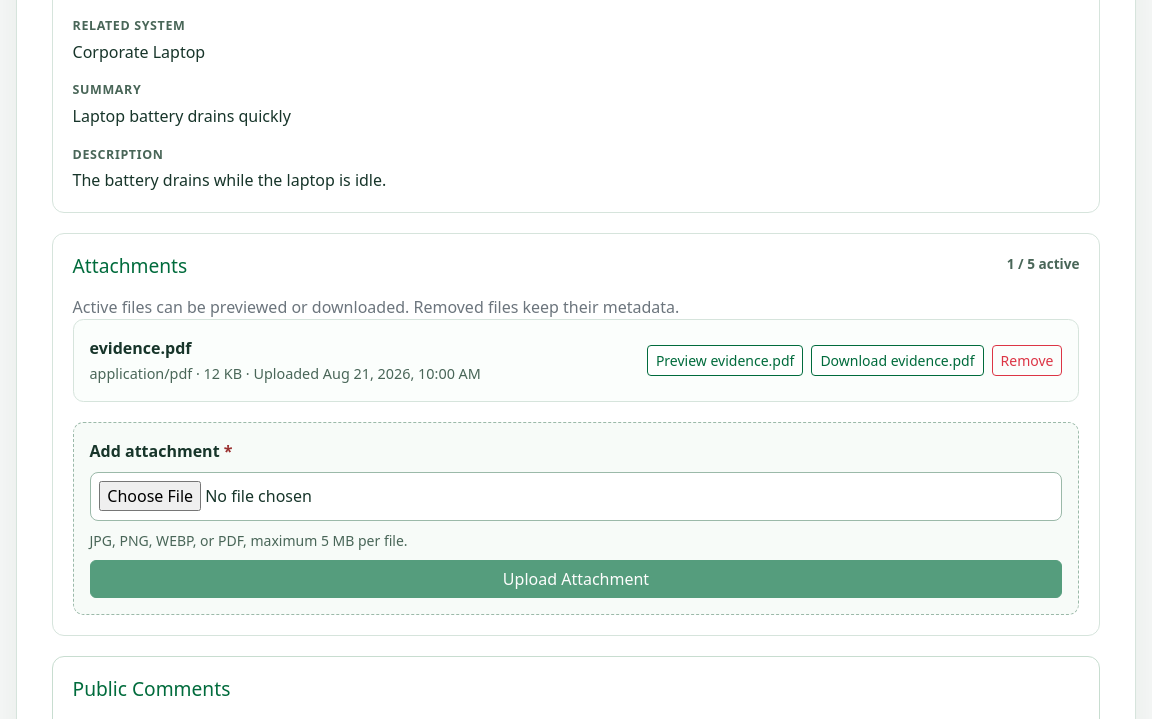
Test: Lab 2 Ticket Detail attachment actions › requires a reason, confirms soft removal, retains metadata, and hides content actions
(page scrolled)
Check: the text "evidence.pdf" is shown, box x1=90 y1=337 x2=191 y2=359
Click the button with aria-label "Remove Attachment evidence.pdf" at x=1027, y=360, box x1=992 y1=345 x2=1062 y2=376
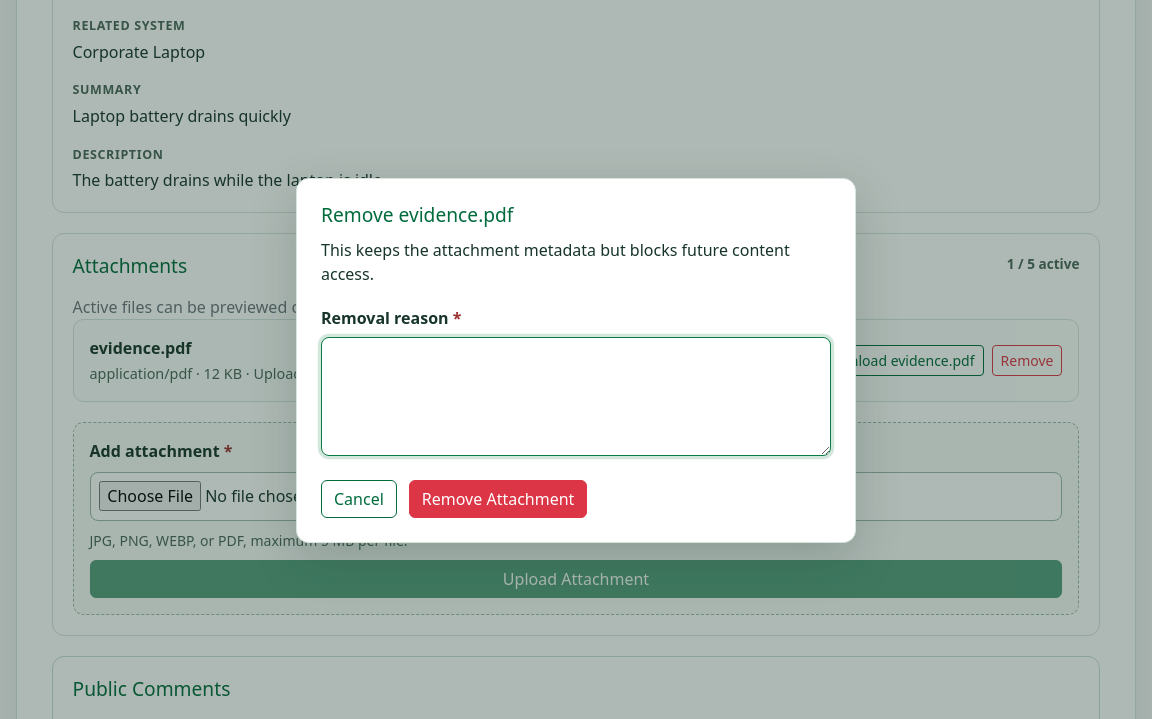
Check: the dialog shows "Remove evidence.pdf", box x1=296 y1=178 x2=856 y2=542
Click the button "Remove Attachment" at x=498, y=498, box x1=409 y1=480 x2=587 y2=518
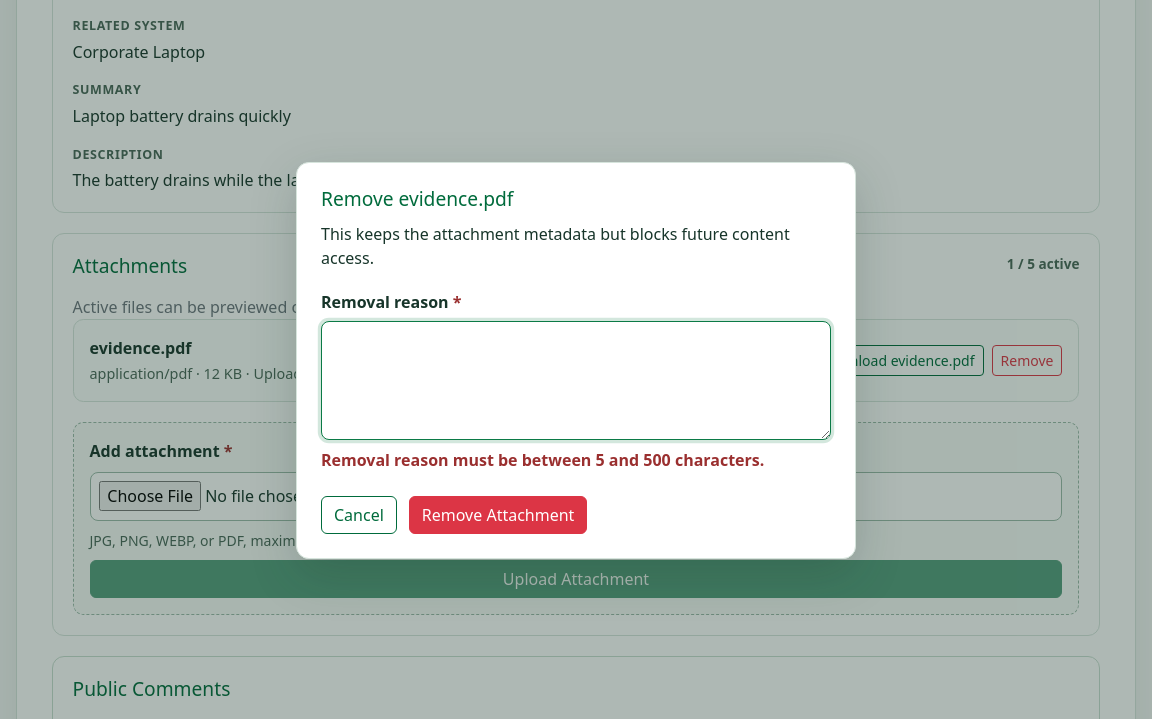
Check: the message shows "reason must be", box x1=321 y1=448 x2=764 y2=470
Press Escape
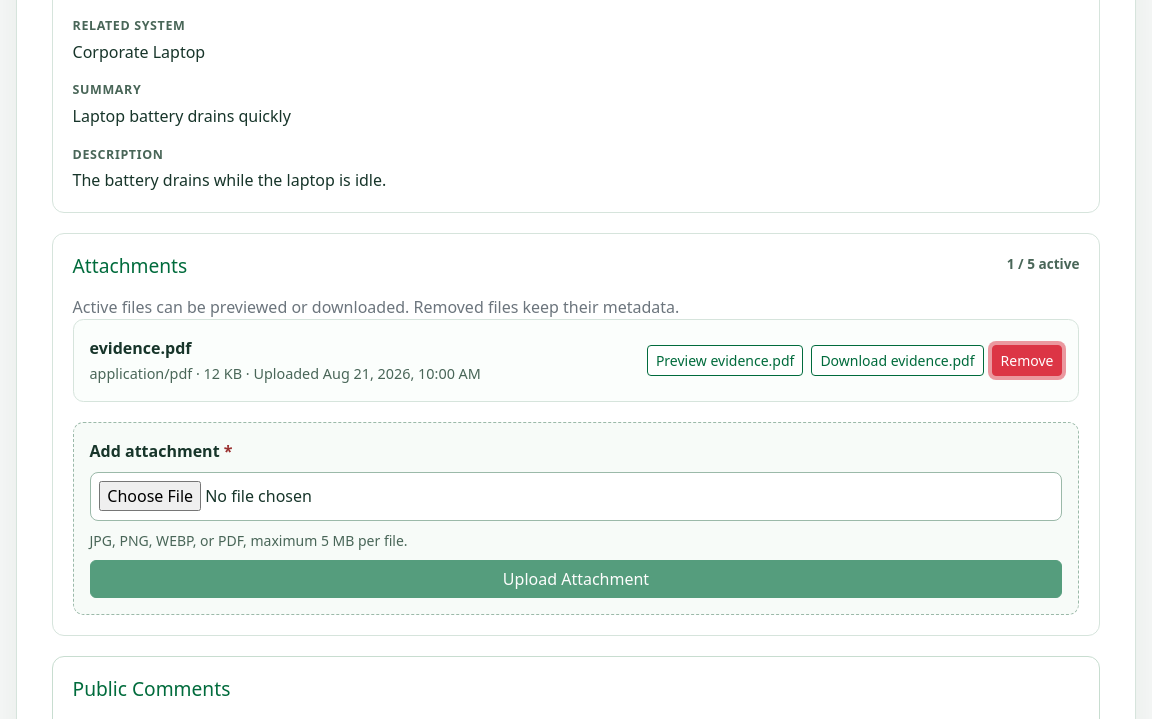
Check: the dialog is gone
Click the button with aria-label "Remove Attachment evidence.pdf" at x=1027, y=360, box x1=992 y1=345 x2=1062 y2=376
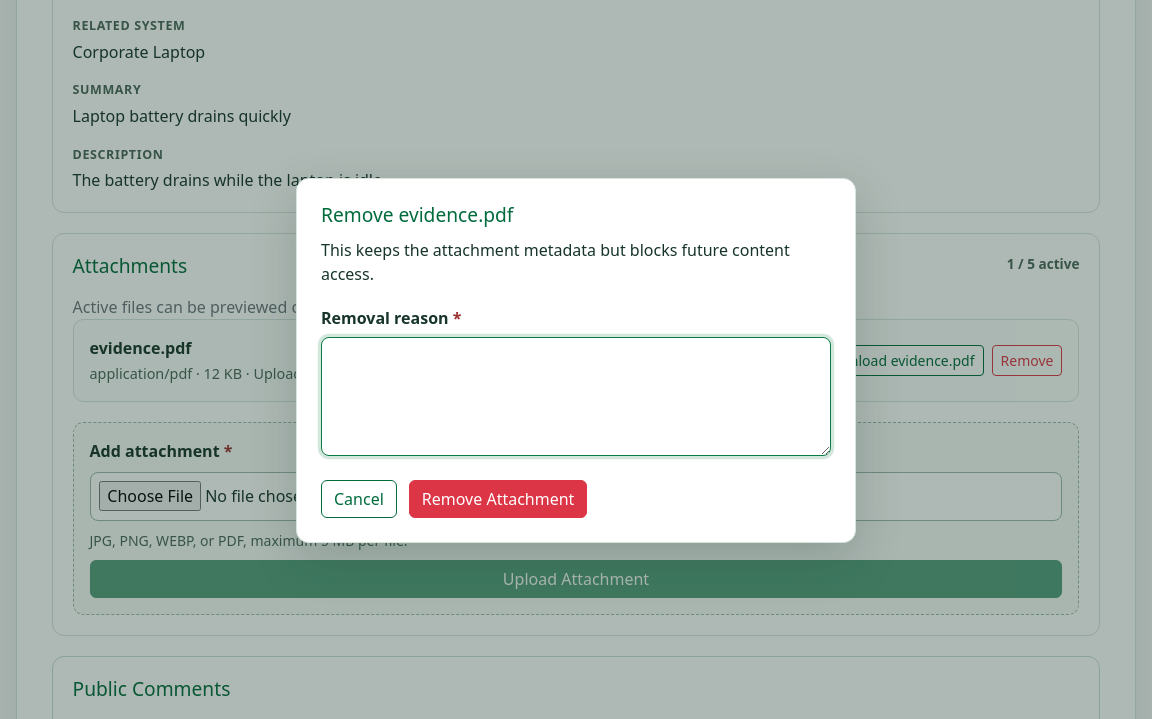
Type "Uploaded the wrong document" into the text box labelled "Removal reason" at x=576, y=396, box x1=321 y1=337 x2=831 y2=456
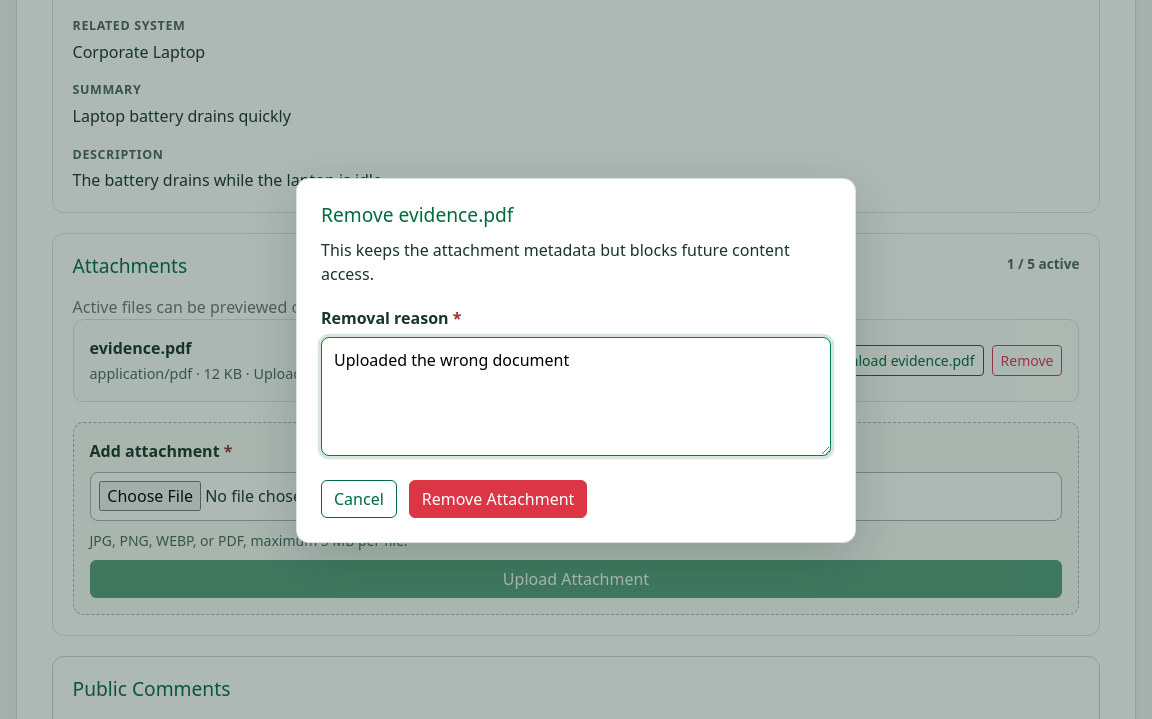
Click the button "Remove Attachment" at x=498, y=498, box x1=409 y1=480 x2=587 y2=518
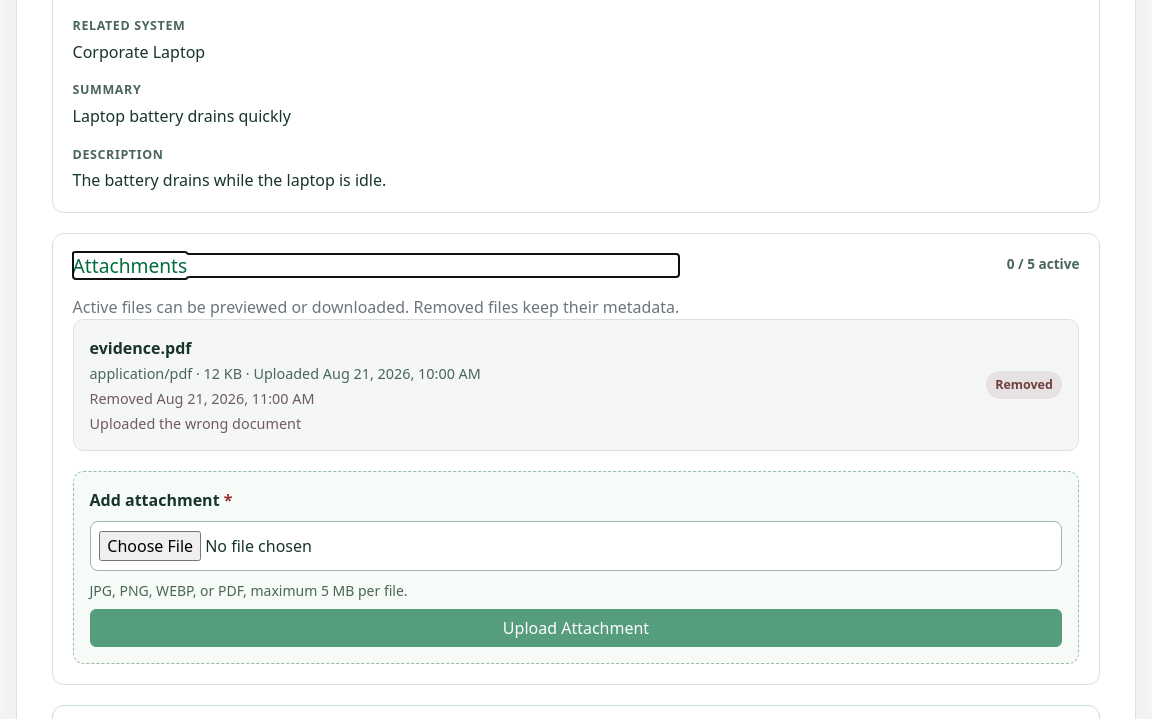
Check: the text "Removed" is shown, box x1=986 y1=371 x2=1062 y2=399
Check: the text "Uploaded the wrong document" is shown, box x1=90 y1=414 x2=301 y2=433
Check: the link "Download evidence.pdf" is gone
